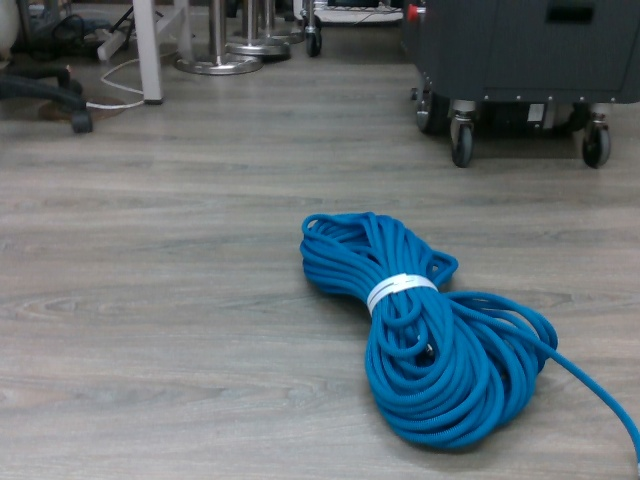rope: (296, 213, 562, 459)
